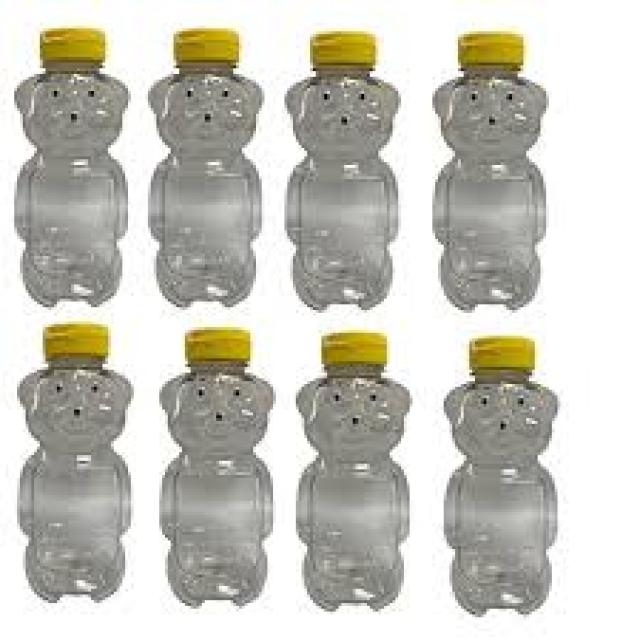bottom: (19, 541, 135, 617), (279, 249, 399, 314), (294, 547, 412, 612), (157, 545, 272, 608), (432, 563, 559, 618), (427, 255, 545, 313), (153, 248, 260, 309), (12, 259, 128, 308)
cap: (442, 28, 540, 82), (467, 331, 548, 388), (161, 22, 248, 72), (310, 24, 390, 78), (36, 16, 107, 76), (176, 328, 268, 372), (317, 328, 392, 378), (36, 324, 113, 371)
